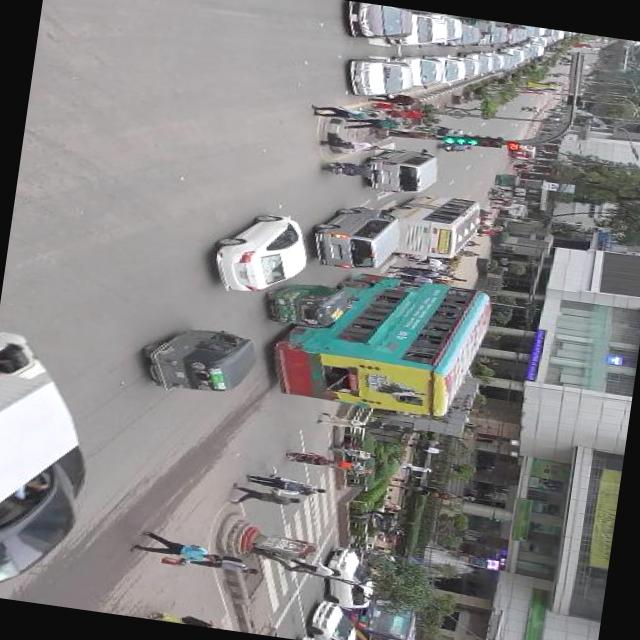bus: (266, 260, 504, 427), (380, 188, 490, 269)
car: (200, 207, 320, 304), (320, 545, 388, 615), (338, 50, 422, 105), (336, 1, 421, 49), (303, 595, 366, 640)
motorcycle: (133, 318, 264, 404), (260, 273, 360, 339), (319, 158, 383, 185), (491, 172, 523, 192)
truck: (304, 200, 410, 280), (357, 140, 442, 202)
